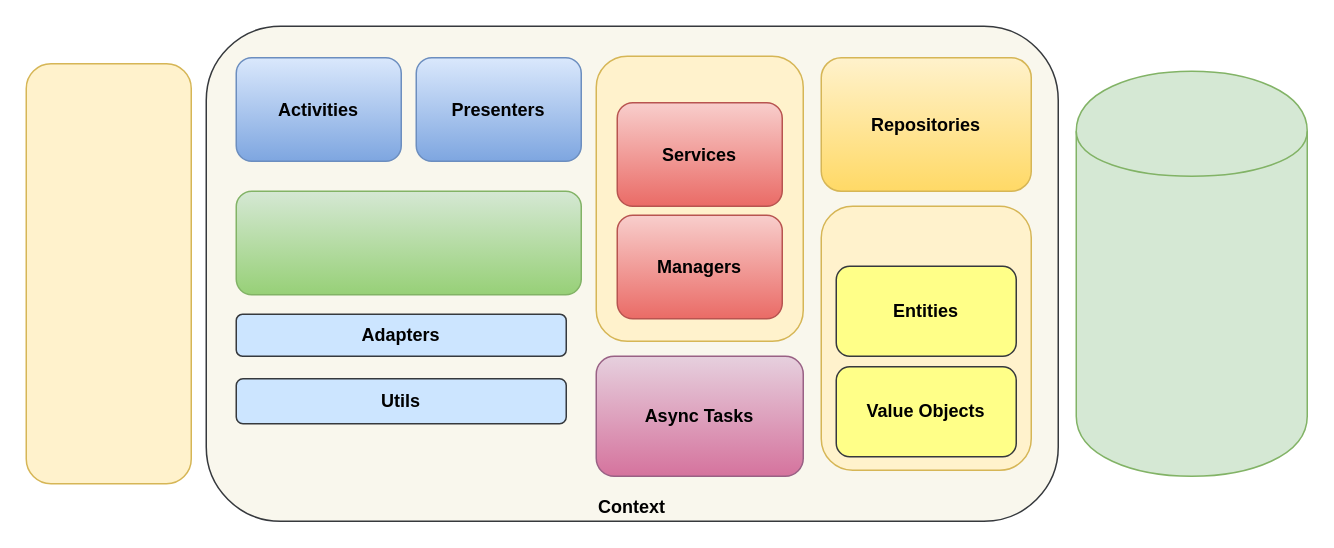
Image size: 1334x548. Some labels were removed from this diagram. The box of each missing label's shape, as (x1, y1, x2, y2) in pixels:
BBDD: (1075, 70, 1307, 476)
Business: (595, 55, 803, 341)
db: (820, 205, 1031, 470)
Listeners: (235, 190, 581, 295)
UI Layout: (25, 62, 191, 484)
